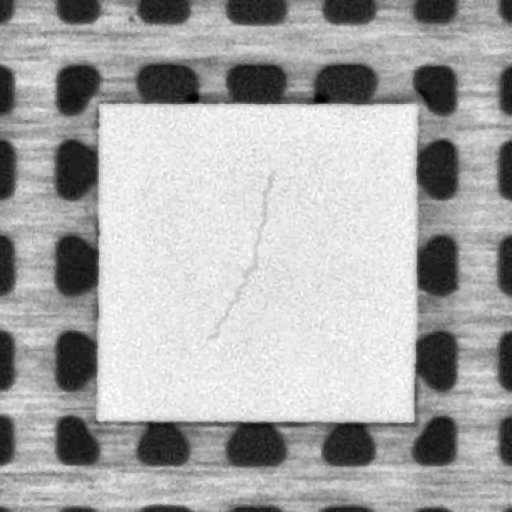DIE_CRACK: (207, 172, 274, 340)
